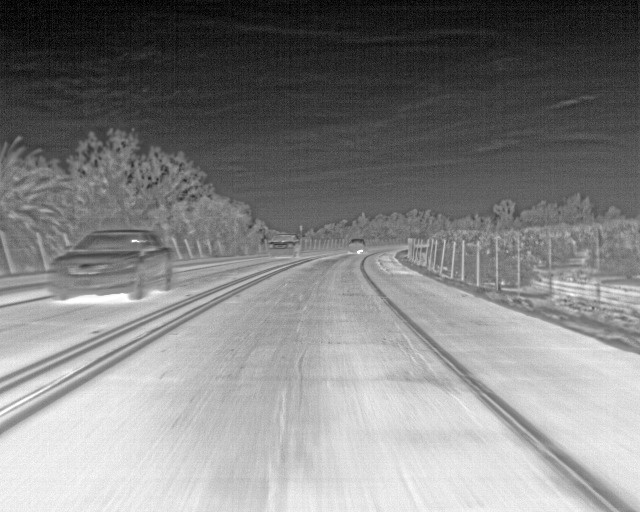vehicle: (49, 228, 174, 308)
